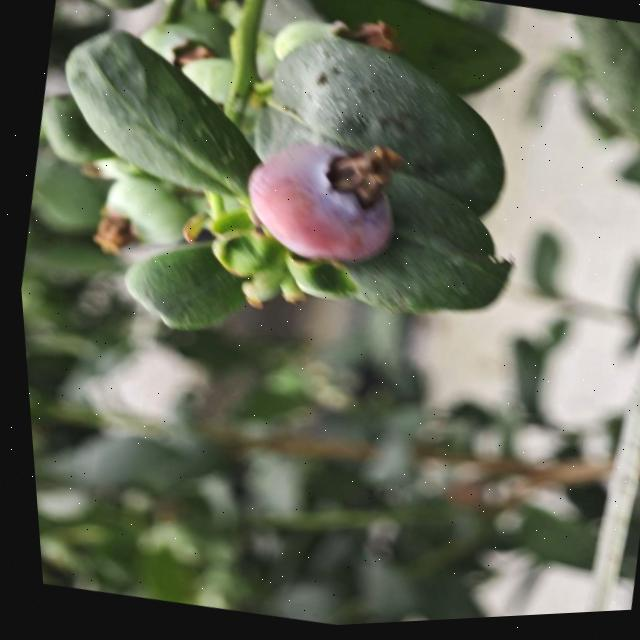Semi-RipeBlueBerry: (230, 130, 409, 280)
